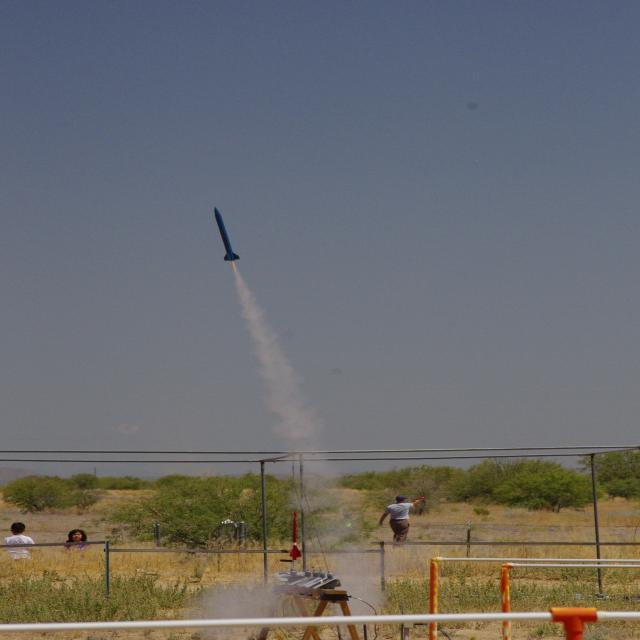Rocket: (214, 206, 241, 262), (290, 511, 302, 561), (413, 495, 428, 502)
